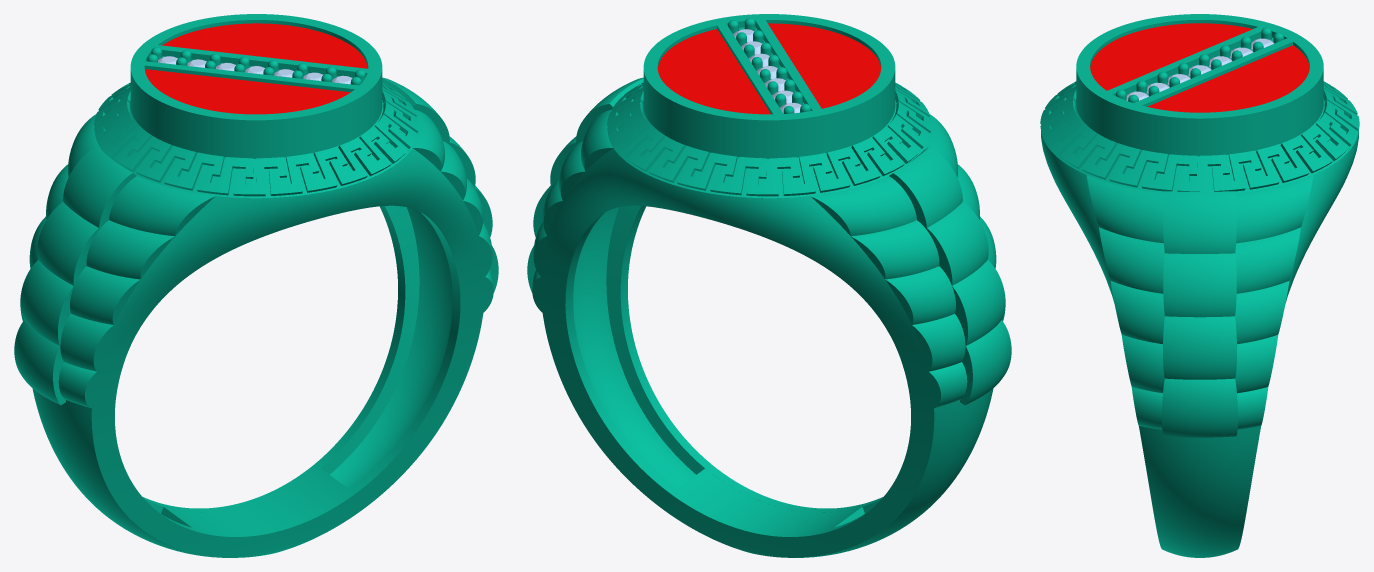
3 views of the same model, side by side, from view 1: azimuth 30°, elevation 25°; view 2: azimuth 150°, elevation 25°; view 3: azimuth 270°, elevation 25° (orthographic).
Visible parts, largest first — view 1: 72 Anillo Hombre Rolex.3dm; view 2: 72 Anillo Hombre Rolex.3dm; view 3: 72 Anillo Hombre Rolex.3dm.
Boxes of the visible parts, bbox=[...] form: 72 Anillo Hombre Rolex.3dm: bbox=[14, 14, 498, 557]; 72 Anillo Hombre Rolex.3dm: bbox=[527, 14, 1011, 557]; 72 Anillo Hombre Rolex.3dm: bbox=[1040, 14, 1359, 557].
Bounding box in the file's own units: 2.58 × 2.61 × 1.59.
